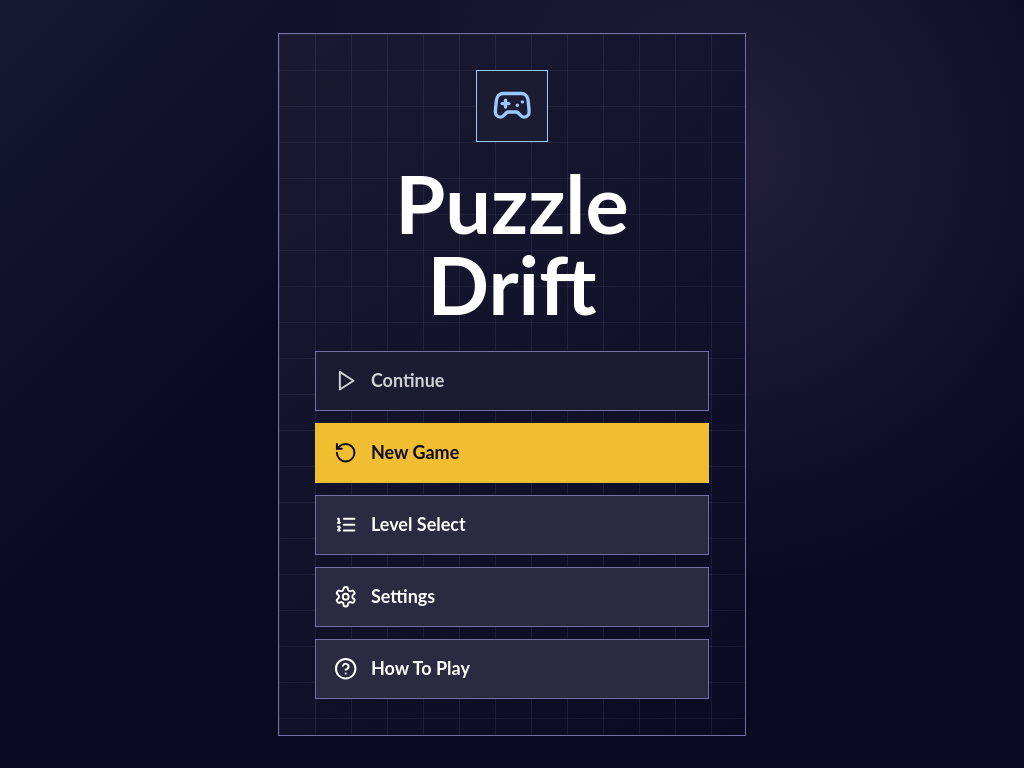
Test case: App › renders the settings modal without a header gear icon
Click the button "Settings" at (403, 596), box [315,567,709,626]
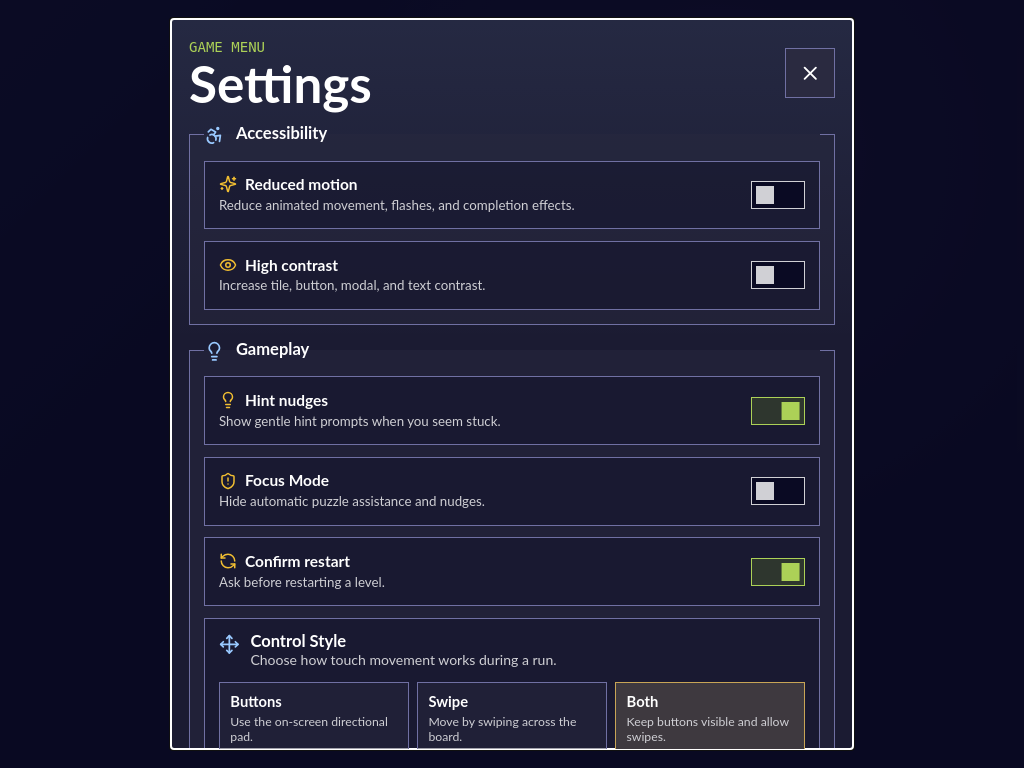
Expected: the heading "Settings" is shown, [189,58,372,109]
